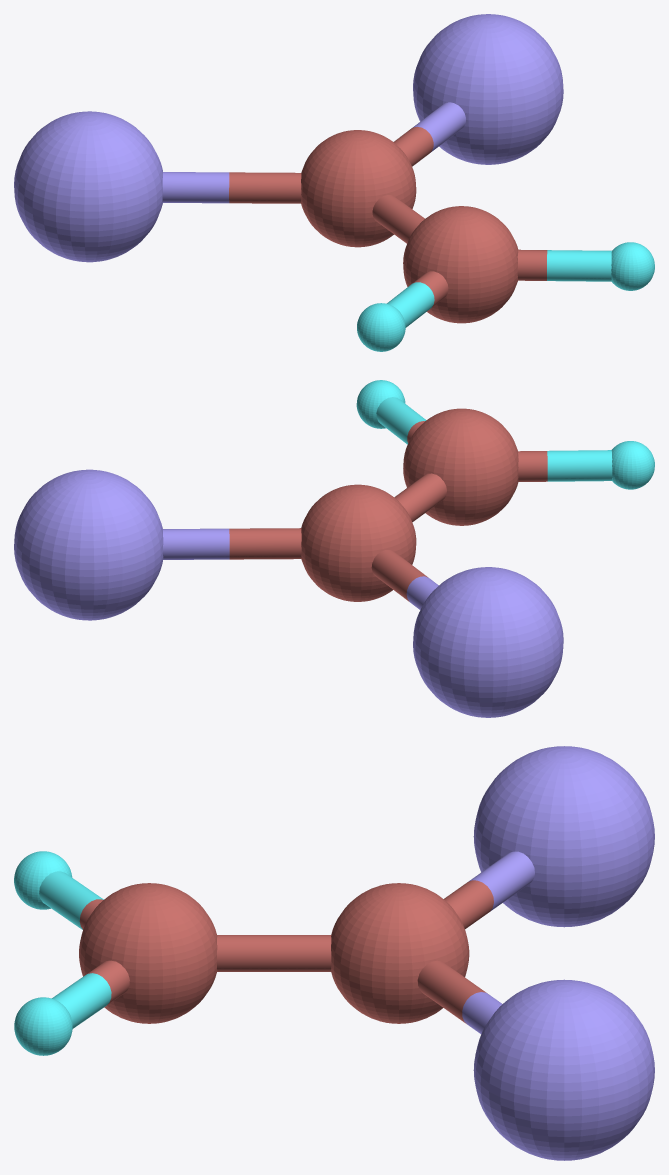
Rendered from 1-1-dicloroeteno.glb.
The picture shows the model from 3 angles, top to bottom: view 1: azimuth 30°, elevation 25°; view 2: azimuth 150°, elevation 25°; view 3: azimuth 270°, elevation 25°; orthographic projection. The views are drawn at different scales.
Visible parts, largest first — view 1: Chlorine_ball (×2), Carbon_ball (×2), Hydrogen_ball (×2); view 2: Chlorine_ball (×2), Carbon_ball (×2), Hydrogen_ball (×2); view 3: Chlorine_ball (×2), Carbon_ball (×2), Hydrogen_ball (×2).
Boxes of the visible parts, x1,y1,x2,y2 form: Chlorine_ball (×2): (14, 14, 563, 262); Carbon_ball (×2): (301, 130, 518, 323); Hydrogen_ball (×2): (357, 242, 654, 351); Chlorine_ball (×2): (14, 469, 563, 717); Carbon_ball (×2): (301, 408, 518, 601); Hydrogen_ball (×2): (356, 380, 654, 489); Chlorine_ball (×2): (473, 746, 654, 1160); Carbon_ball (×2): (79, 883, 469, 1023); Hydrogen_ball (×2): (14, 851, 72, 1055).
Size of the model in its own units: 3.93 by 0.9702 by 3.43.
